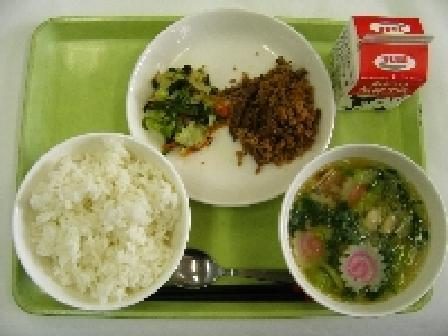Milk: (329, 10, 435, 118)
Rice: (2, 131, 195, 316)
Soups: (284, 152, 447, 321)
cooked food based on meat: (221, 55, 323, 174)
salad with sauce: (142, 65, 228, 154)
